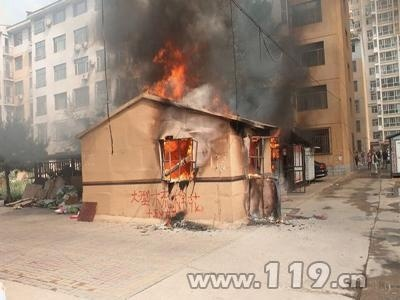fire: (143, 44, 205, 104), (160, 138, 194, 180)
